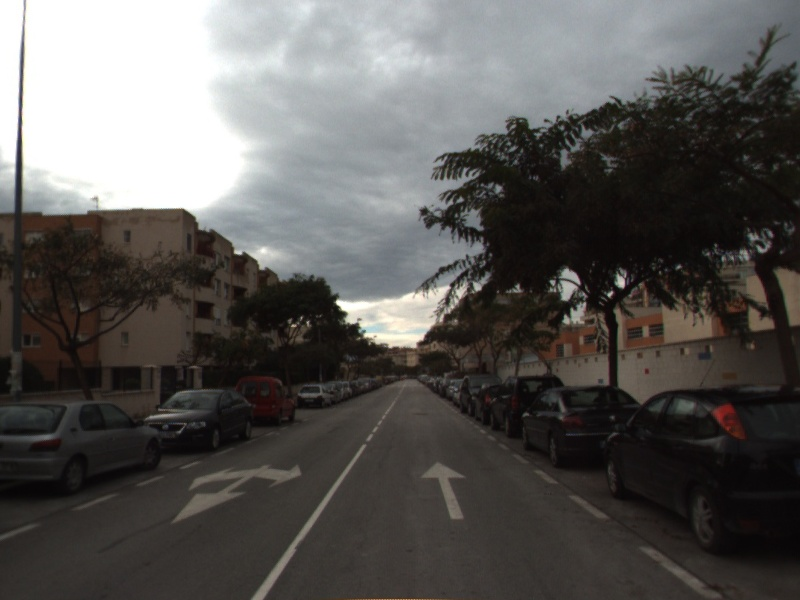STRAIGHT: (418, 460, 469, 521)
